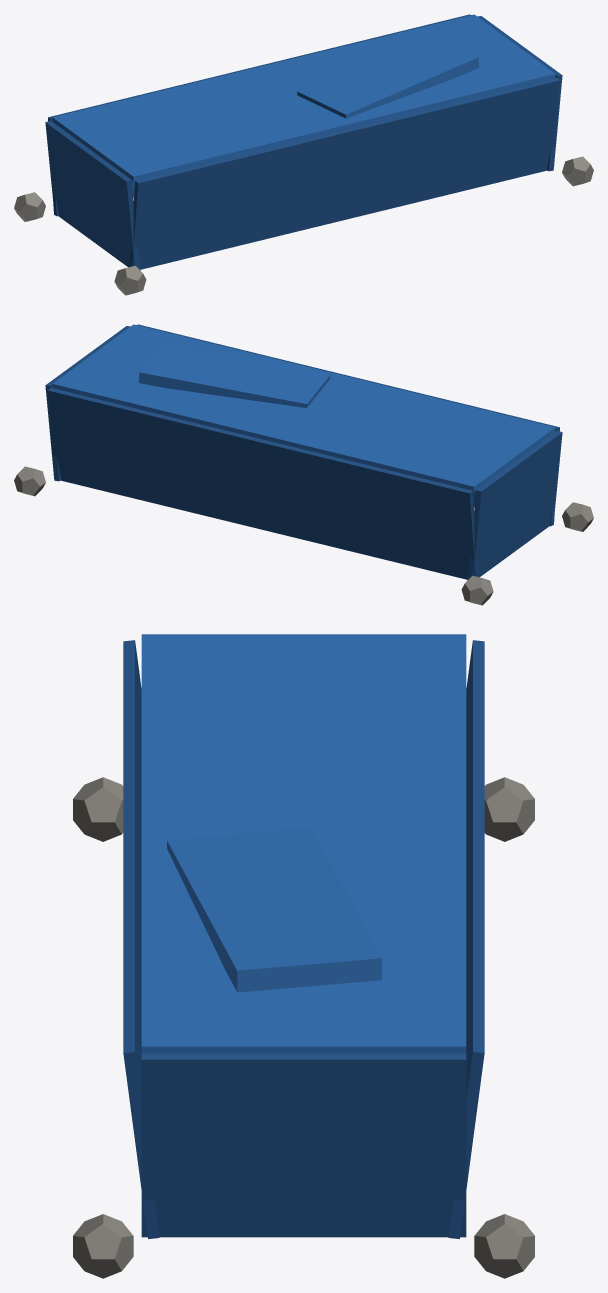
Rendered from bridge_tarp.glb.
The picture shows the model from 3 angles, top to bottom: view 1: azimuth 30°, elevation 25°; view 2: azimuth 150°, elevation 25°; view 3: azimuth 270°, elevation 25°; orthographic projection. The views are drawn at different scales.
Visible parts, largest first — view 1: tarp_tarp_dark, tarp_tarp_blue, stones_stone; view 2: tarp_tarp_dark, tarp_tarp_blue, stones_stone; view 3: tarp_tarp_blue, tarp_tarp_dark, stones_stone.
Part boxes in pixels (x1,y1,x2,y2): tarp_tarp_dark: (45,14,562,270); tarp_tarp_blue: (52,14,555,181); stones_stone: (14,156,593,295); tarp_tarp_dark: (45,324,562,580); tarp_tarp_blue: (52,324,555,491); stones_stone: (14,466,593,605); tarp_tarp_blue: (141,634,466,1053); tarp_tarp_dark: (123,634,484,1238); stones_stone: (73,777,534,1278).
Size of the model in its own units: 3.71 by 0.8927 by 1.57.
